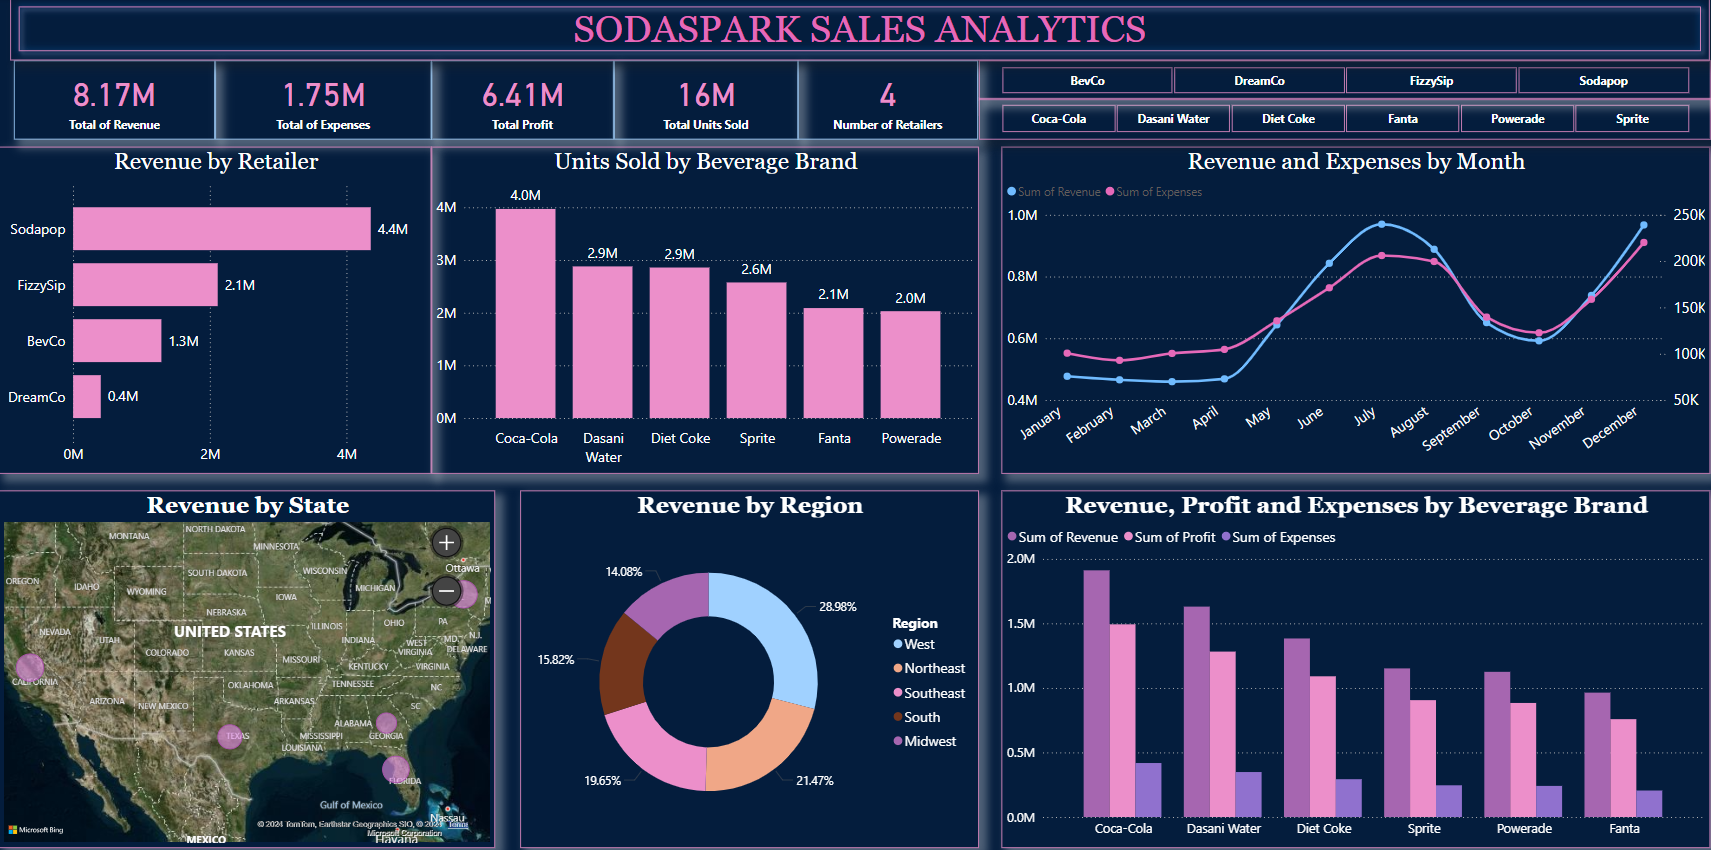

The dashboard page shown, as its layout file describes it:
{"tool":"powerbi","page":{"name":"SodaSpark Sales Analytics ","canvas":[2000,1000],"ordinal":0},"visuals":[{"type":"card","fields":{"Values":["SodaSpark Data.Revenue"]},"box":[17.4,71.6,232.3,91.2],"z":0},{"type":"card","fields":{"Values":["SodaSpark Data.Expenses"]},"box":[249.6,71.6,249.6,91.2],"z":1000},{"type":"card","fields":{"Values":["SodaSpark Data.Profit"]},"box":[499.3,71.6,210.6,91.2],"z":2000},{"type":"card","fields":{"Values":["SodaSpark Data.Units Sold"]},"box":[709.9,71.6,212.7,91.2],"z":3000},{"type":"card","fields":{"Values":["SodaSpark Data.Retailer"]},"box":[922.6,71.6,208.4,91.2],"z":4000},{"type":"clusteredBarChart","title":" Revenue by Retailer","fields":{"Category":["SodaSpark Data.Retailer"],"Y":["SodaSpark Data.Revenue"]},"box":[0,171.5,499.3,377.7],"z":5000},{"type":"clusteredColumnChart","title":" Units Sold by Beverage Brand","fields":{"Category":["SodaSpark Data.Beverage Brand"],"Y":["SodaSpark Data.Units Sold"]},"box":[499.3,171.5,631.7,377.7],"z":6000},{"type":"lineChart","title":"Revenue and  Expenses by Month","fields":{"Category":["SodaSpark Data.Date.Variation.Date Hierarchy.Month"],"Y":["SodaSpark Data.Revenue"],"Y2":["SodaSpark Data.Expenses"]},"box":[1157,171.5,818.4,377.7],"z":7000},{"type":"map","title":"Revenue by State","fields":{"Category":["SodaSpark Data.State"],"Size":["SodaSpark Data.Revenue"]},"box":[0,568.8,573.1,412.5],"z":8000},{"type":"donutChart","title":"Revenue by Region","fields":{"Category":["SodaSpark Data.Region"],"Y":["SodaSpark Data.Revenue"]},"box":[601.3,568.8,529.7,412.5],"z":9000},{"type":"clusteredColumnChart","title":"  Revenue,  Profit and Expenses by Beverage Brand","fields":{"Category":["SodaSpark Data.Beverage Brand"],"Y":["SodaSpark Data.Revenue","SodaSpark Data.Profit","SodaSpark Data.Expenses"]},"box":[1157,568.8,818.4,412.5],"z":10000},{"type":"slicer","fields":{"Values":["SodaSpark Data.Beverage Brand"]},"box":[1131,115.1,844.4,47.8],"z":11000},{"type":"slicer","fields":{"Values":["SodaSpark Data.Retailer"]},"box":[1131,71.6,844.4,45.6],"z":12000},{"type":"shape","box":[13,0,1962.4,71.6],"z":13000}]}

Visuals, with their boxes in screenshot pixels (x1, y1, x2, y2), scaled from the page's 2000x1000 canvas onto the 1711x850 screenshot:
card - SodaSpark Data.Revenue: [left=15, top=61, right=214, bottom=138]
card - SodaSpark Data.Expenses: [left=214, top=61, right=427, bottom=138]
card - SodaSpark Data.Profit: [left=427, top=61, right=607, bottom=138]
card - SodaSpark Data.Units Sold: [left=607, top=61, right=789, bottom=138]
card - SodaSpark Data.Retailer: [left=789, top=61, right=968, bottom=138]
" Revenue by Retailer" clusteredBarChart: [left=0, top=146, right=427, bottom=467]
" Units Sold by Beverage Brand" clusteredColumnChart: [left=427, top=146, right=968, bottom=467]
"Revenue and  Expenses by Month" lineChart: [left=990, top=146, right=1690, bottom=467]
"Revenue by State" map: [left=0, top=483, right=490, bottom=834]
"Revenue by Region" donutChart: [left=514, top=483, right=968, bottom=834]
"  Revenue,  Profit and Expenses by Beverage Brand" clusteredColumnChart: [left=990, top=483, right=1690, bottom=834]
slicer - SodaSpark Data.Beverage Brand: [left=968, top=98, right=1690, bottom=138]
slicer - SodaSpark Data.Retailer: [left=968, top=61, right=1690, bottom=100]
shape: [left=11, top=0, right=1690, bottom=61]
